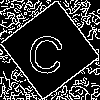C: (25, 25, 68, 75)
